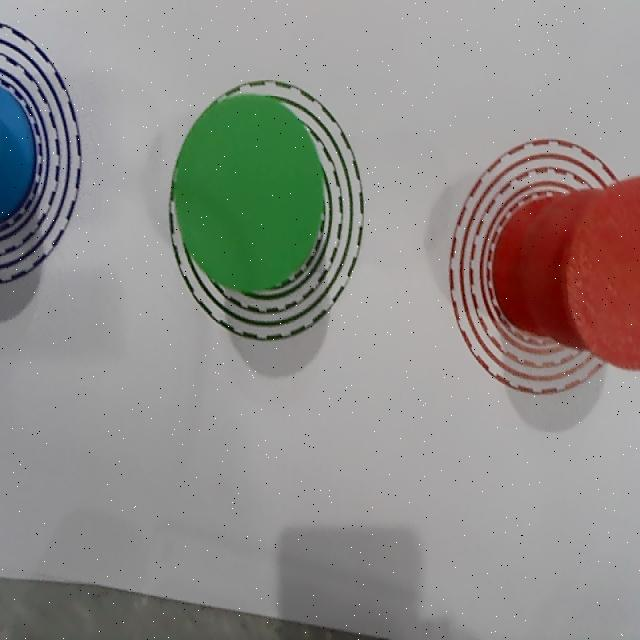g: (174, 95, 322, 292)
